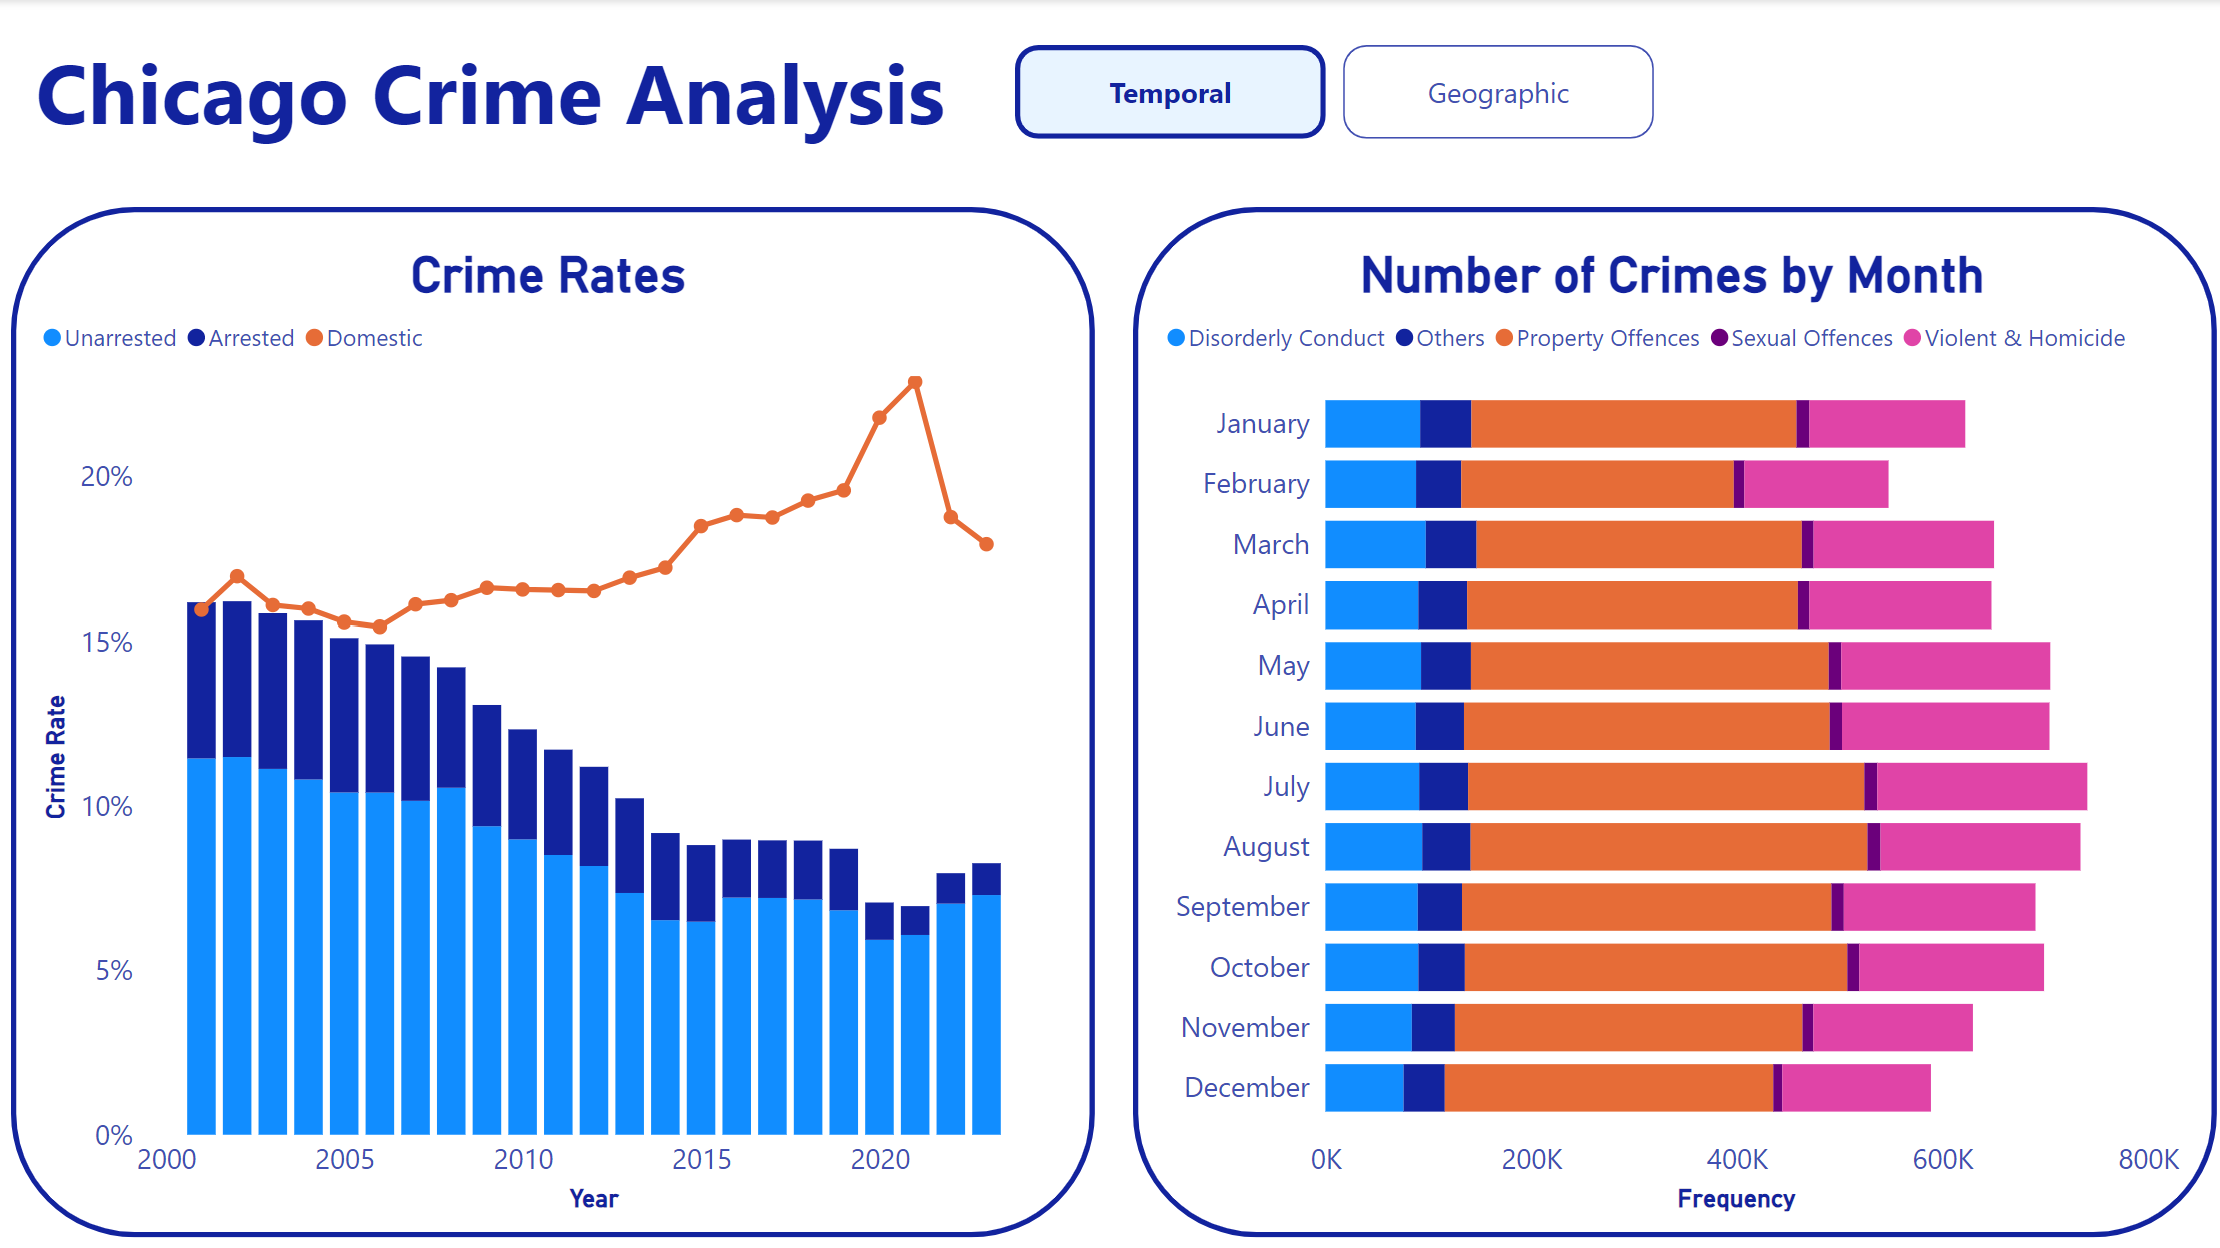

The dashboard page shown, as its layout file describes it:
{"tool":"powerbi","page":{"name":"Temporal","canvas":[1280,720],"ordinal":0},"visuals":[{"type":"shape","box":[652.9,120,624.3,592.9],"z":1000},{"type":"shape","box":[7.1,120,624.3,592.9],"z":1500},{"type":"lineStackedColumnComboChart","title":"Crime Rates","fields":{"Category":["public crimes.crime_date.Variation.Date Hierarchy.Year"],"Y":["public crimes.unarrest_rate","public crimes.arrest_rate_to_population"],"Y2":["public crimes.domestic_rate"]},"box":[20,141.2,593.8,561.2],"z":2000},{"type":"barChart","title":"Number of Crimes by Month","fields":{"Category":["public crimes.crime_date.Variation.Date Hierarchy.Month"],"Y":["CountNonNull(public crimes.id)"],"Series":["public crimes.crime_class"]},"box":[667.5,141.2,593.8,561.2],"z":3000},{"type":"textbox","box":[16.4,14.6,568.6,78.6],"z":4000},{"type":"pageNavigator","box":[585,26,368.6,54.3],"z":5000}]}

Visuals, with their boxes in screenshot pixels (x1, y1, x2, y2), scaled from the page's 1280x720 canvas onto the 2220x1248 screenshot:
shape: x1=1132 y1=208 x2=2215 y2=1236
shape: x1=12 y1=208 x2=1095 y2=1236
"Crime Rates" lineStackedColumnComboChart: x1=35 y1=245 x2=1065 y2=1217
"Number of Crimes by Month" barChart: x1=1158 y1=245 x2=2188 y2=1217
textbox: x1=28 y1=25 x2=1015 y2=162
pageNavigator: x1=1015 y1=45 x2=1654 y2=139
